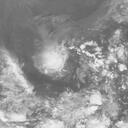cyclone: (35, 44, 69, 77)
